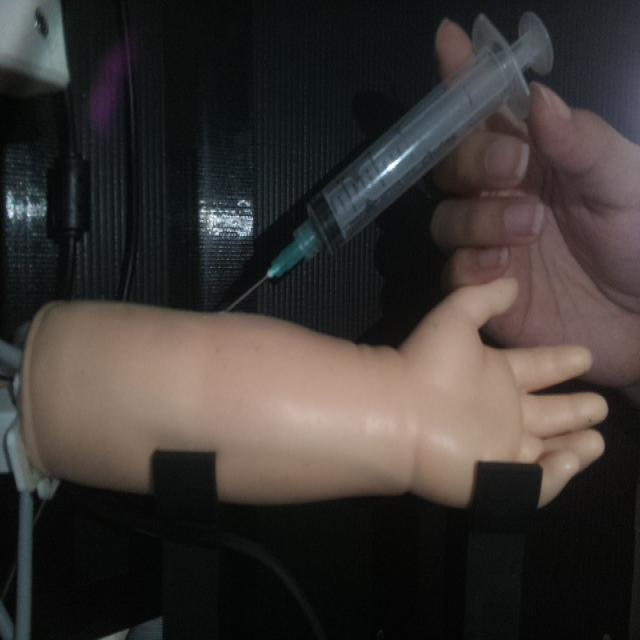Above 30 degrees: (218, 8, 555, 313)
